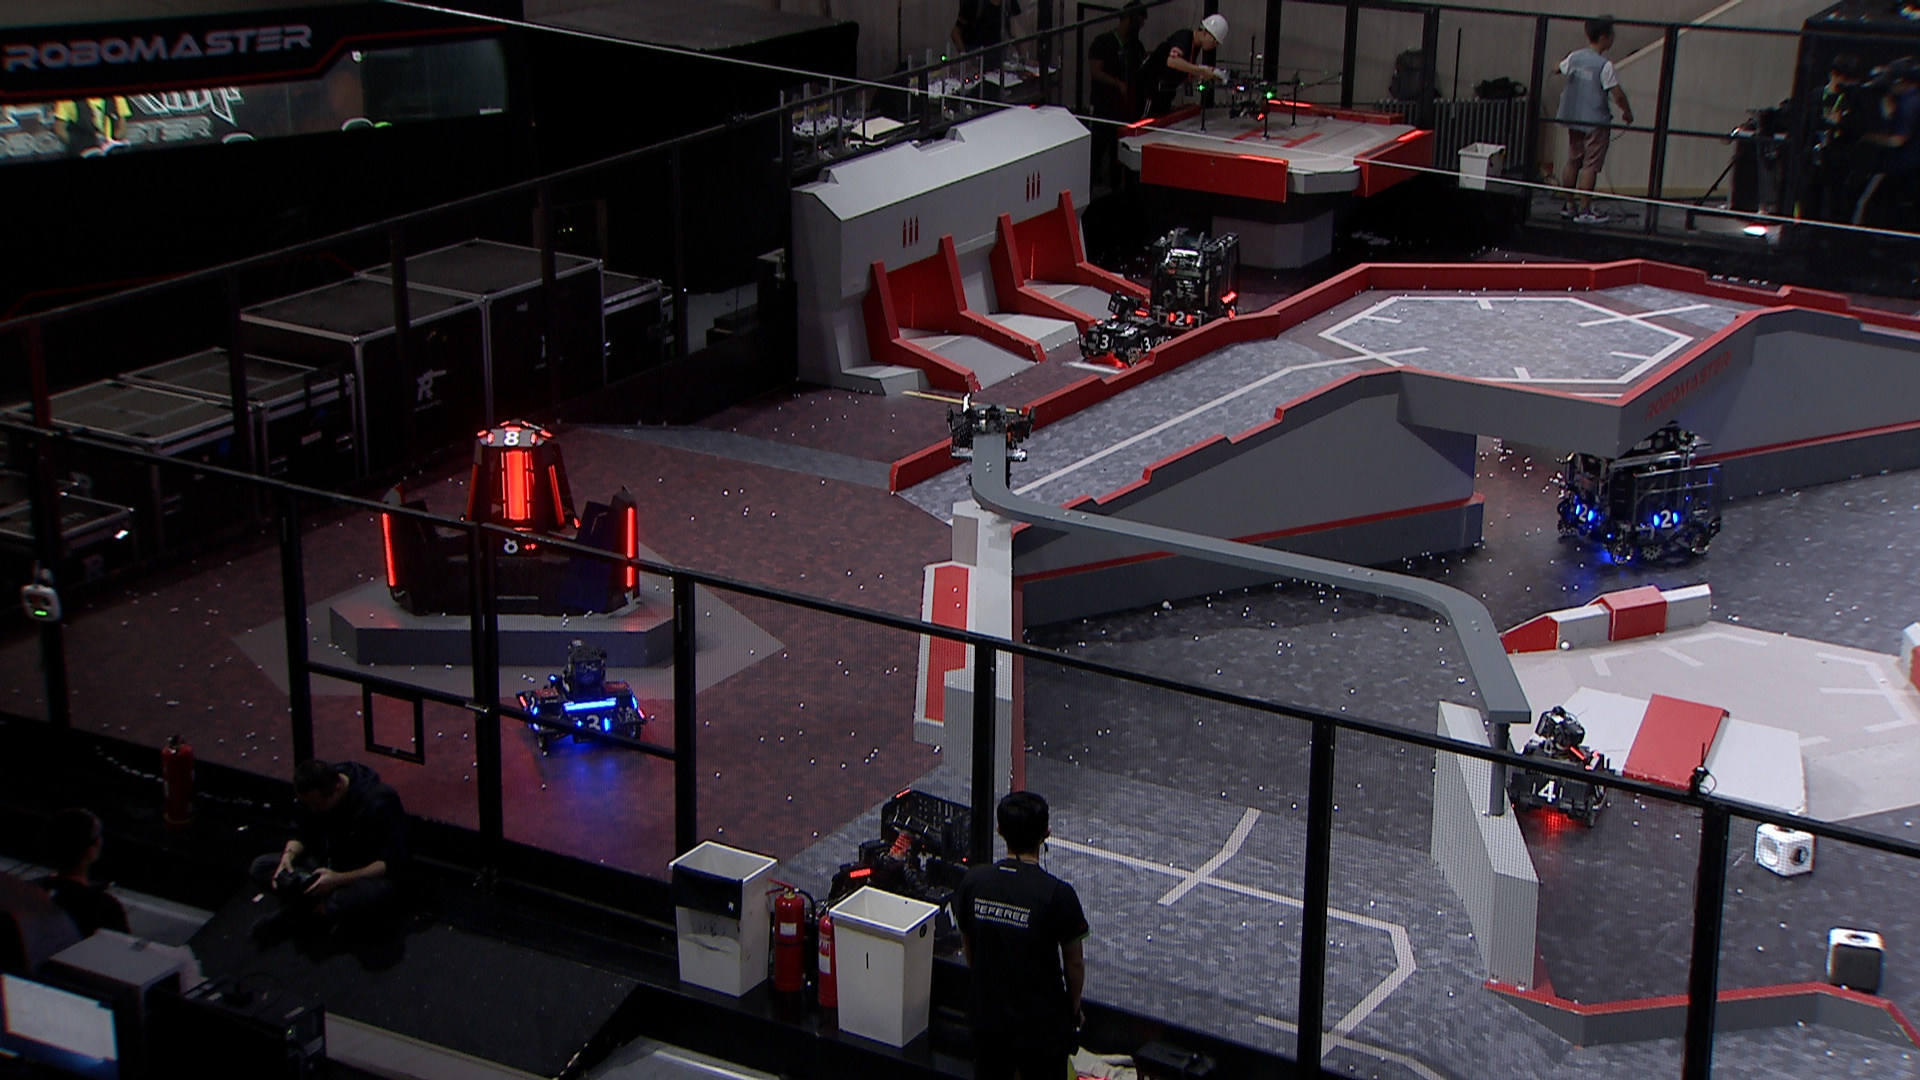armor: (498, 448, 529, 522), (377, 510, 400, 589), (543, 463, 568, 522), (622, 505, 640, 589), (460, 462, 481, 520), (484, 425, 538, 447), (1528, 777, 1565, 806), (496, 531, 538, 555), (572, 713, 611, 738), (935, 898, 961, 930), (520, 695, 542, 727), (1651, 508, 1681, 529), (1572, 498, 1596, 524), (1166, 309, 1192, 328), (1091, 332, 1117, 352), (1098, 318, 1133, 332), (1135, 334, 1159, 353), (1590, 778, 1607, 799), (1225, 305, 1240, 322)
base: (371, 417, 642, 618)
car: (822, 787, 984, 955), (1553, 422, 1724, 571), (514, 636, 655, 754), (1503, 703, 1618, 827), (1135, 225, 1244, 347), (1077, 287, 1174, 371)
watcher: (942, 390, 1038, 496)
